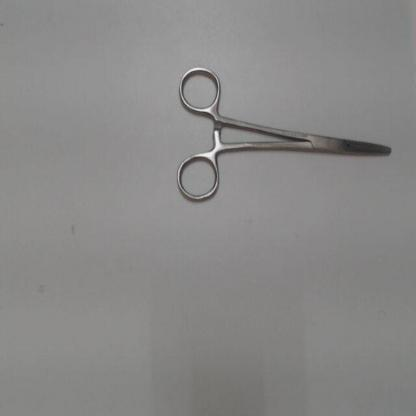Mayo Needle Holder: (170, 57, 398, 211)
